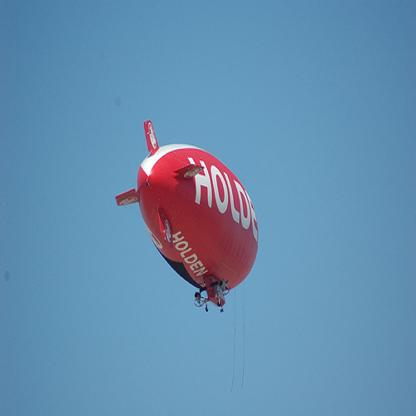Airship: (113, 116, 266, 315)
